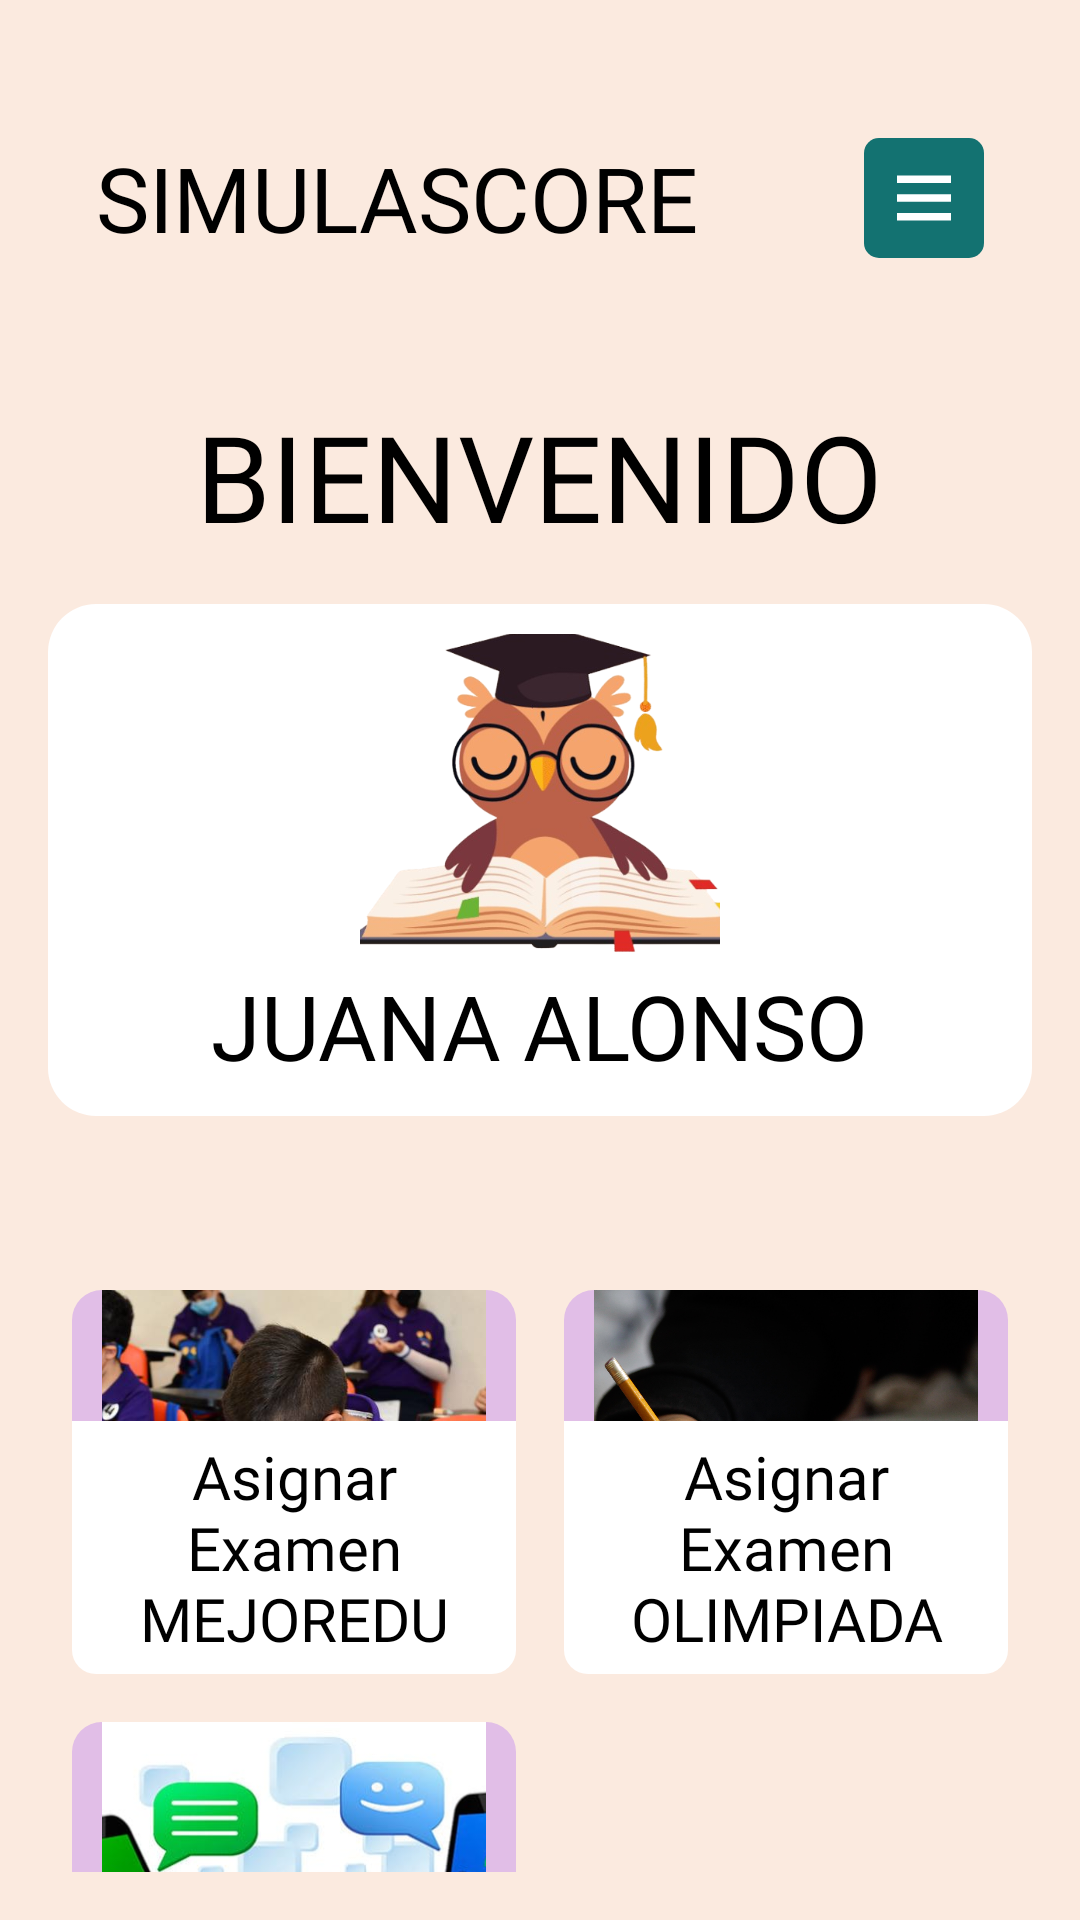

Icons on this 1080 x 1920 Android screen, each with its box as (x1, y1, x2, y2):
buho: (360, 634, 720, 952)
menu: (864, 138, 984, 258)
